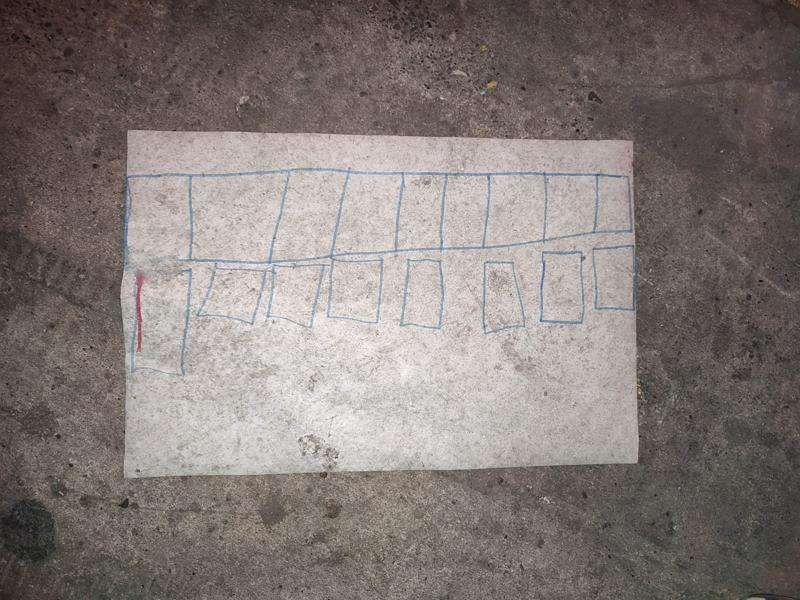papel: (117, 130, 644, 482)
